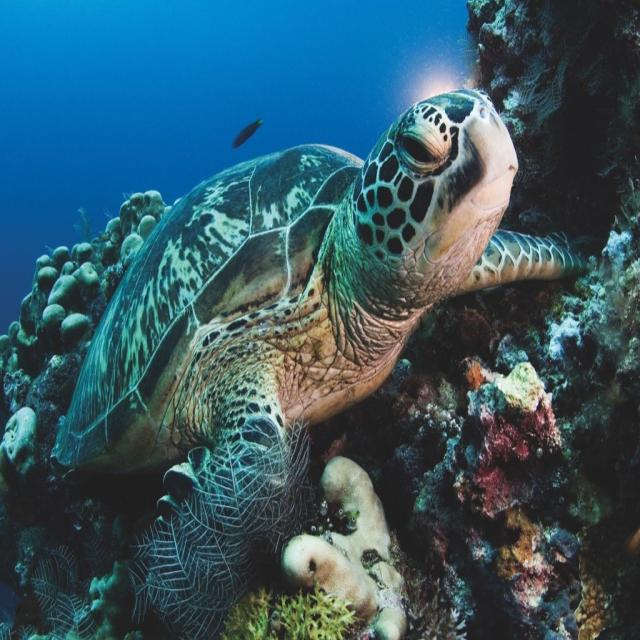sea turtle: (69, 424, 360, 636), (27, 140, 334, 277), (463, 214, 602, 326)
